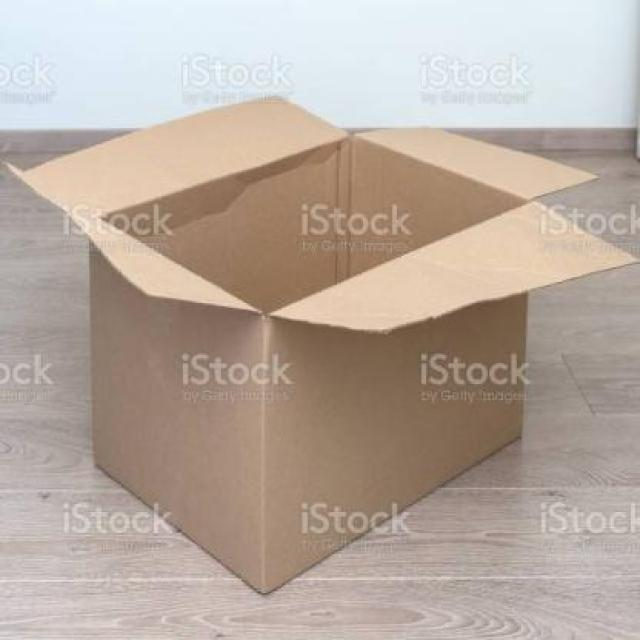box: (0, 76, 637, 619)
